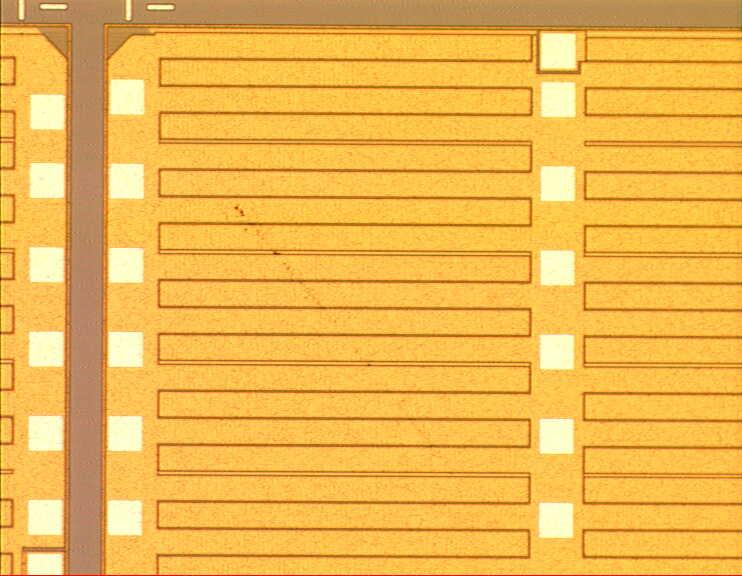SCRATCH: (218, 190, 492, 508)
